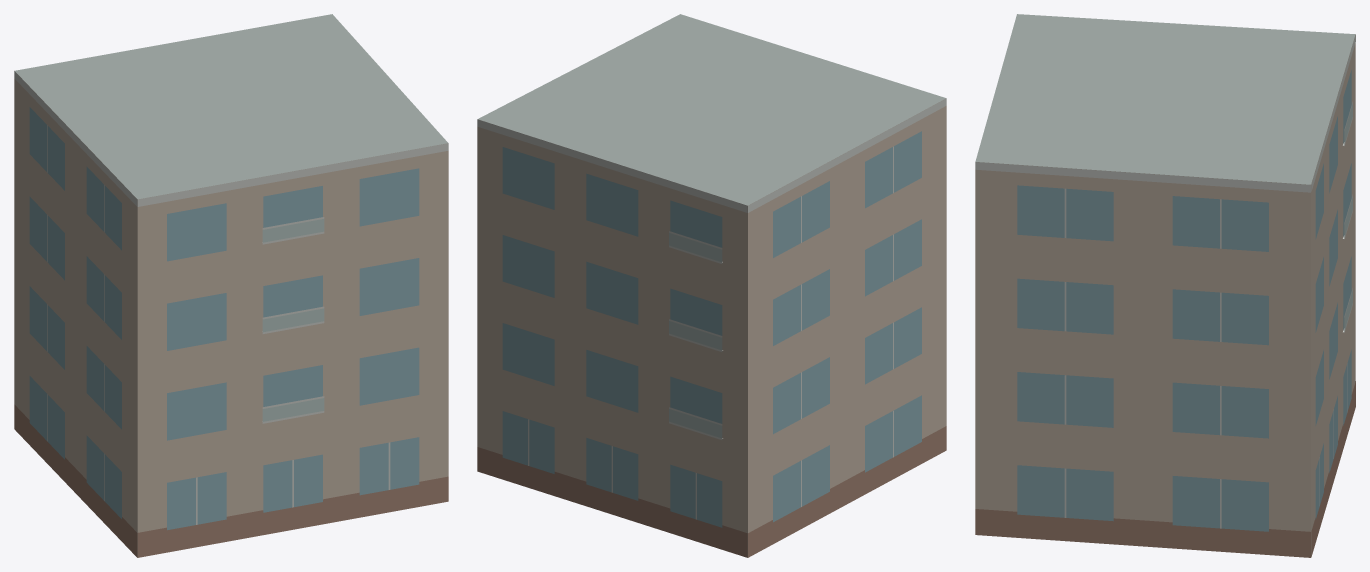
The model's file is survey-upis-32788359.glb.
The picture shows the model from 3 angles, left to right: view 1: azimuth 30°, elevation 25°; view 2: azimuth 150°, elevation 25°; view 3: azimuth 270°, elevation 25°; orthographic projection. The views are drawn at different scales.
Visible parts, largest first — view 1: survey-upis-32788359.tmp; view 2: survey-upis-32788359.tmp; view 3: survey-upis-32788359.tmp.
Boxes of the visible parts, x1,y1,x2,y2 form: survey-upis-32788359.tmp: [14, 14, 448, 557]; survey-upis-32788359.tmp: [477, 14, 946, 557]; survey-upis-32788359.tmp: [975, 14, 1355, 557].
Size of the model in its own units: 11.3 by 11.5 by 10.63.
